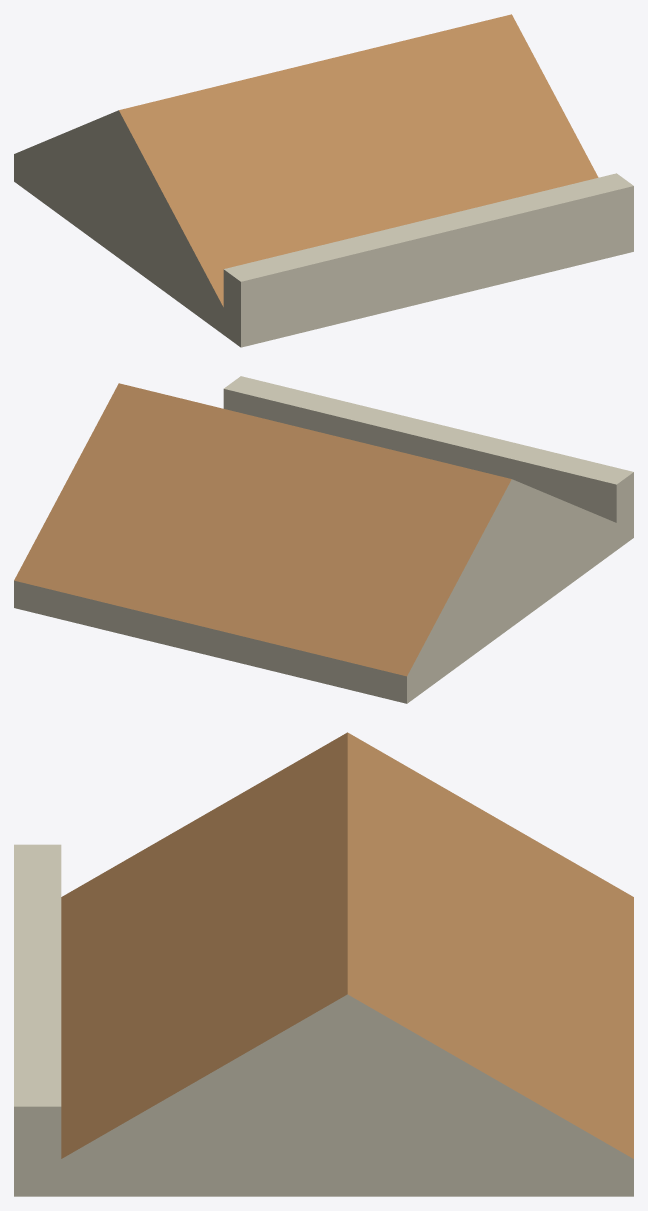
The model's file is Roof 17.FBX.
The picture shows the model from 3 angles, top to bottom: view 1: azimuth 30°, elevation 25°; view 2: azimuth 150°, elevation 25°; view 3: azimuth 270°, elevation 25°; orthographic projection. The views are drawn at different scales.
Parts seen in each view (by area): view 1: Group225; view 2: Group225; view 3: Group225.
Part boxes in pixels (bbox=[...]): Group225: bbox=[14, 14, 633, 347]; Group225: bbox=[14, 376, 633, 703]; Group225: bbox=[14, 732, 633, 1196].
Bounding box in the file's own units: 29.53 × 10.63 × 29.53.
